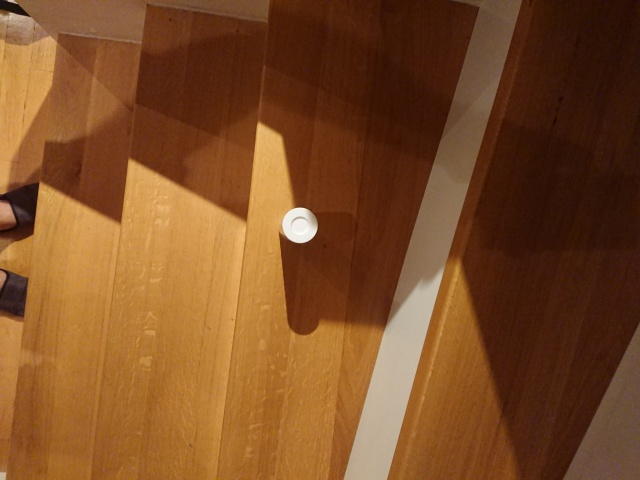Solana Pag Fine Sea Salt 250g: (276, 204, 321, 248)
